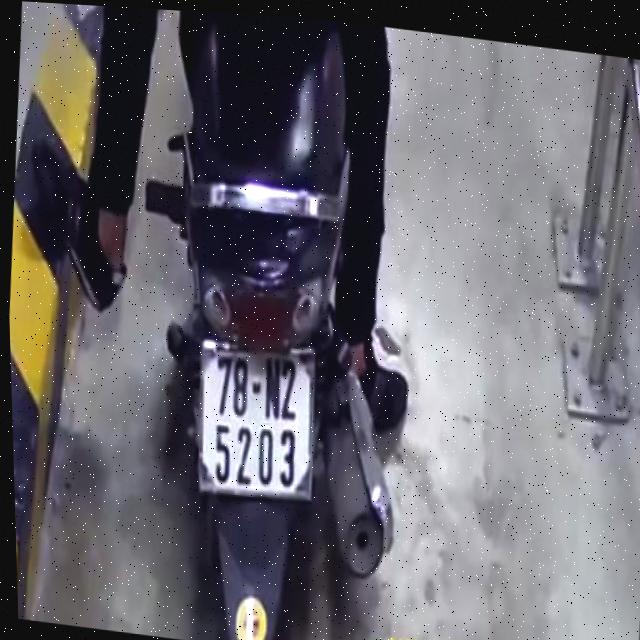motorcycle: (114, 7, 440, 640)
plate: (189, 331, 323, 506)
